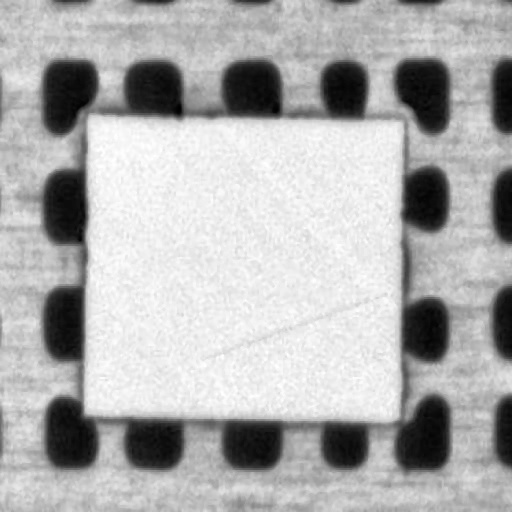DIE_CRACK: (266, 220, 510, 269)
